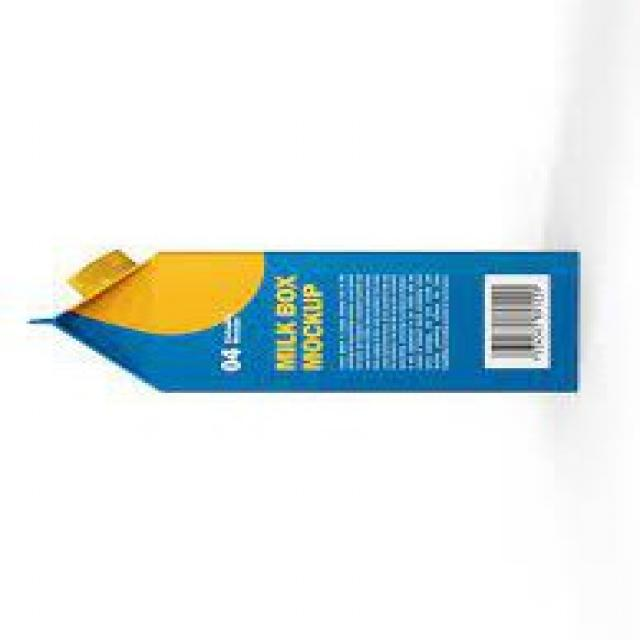non_white_jug: (22, 246, 583, 396)
